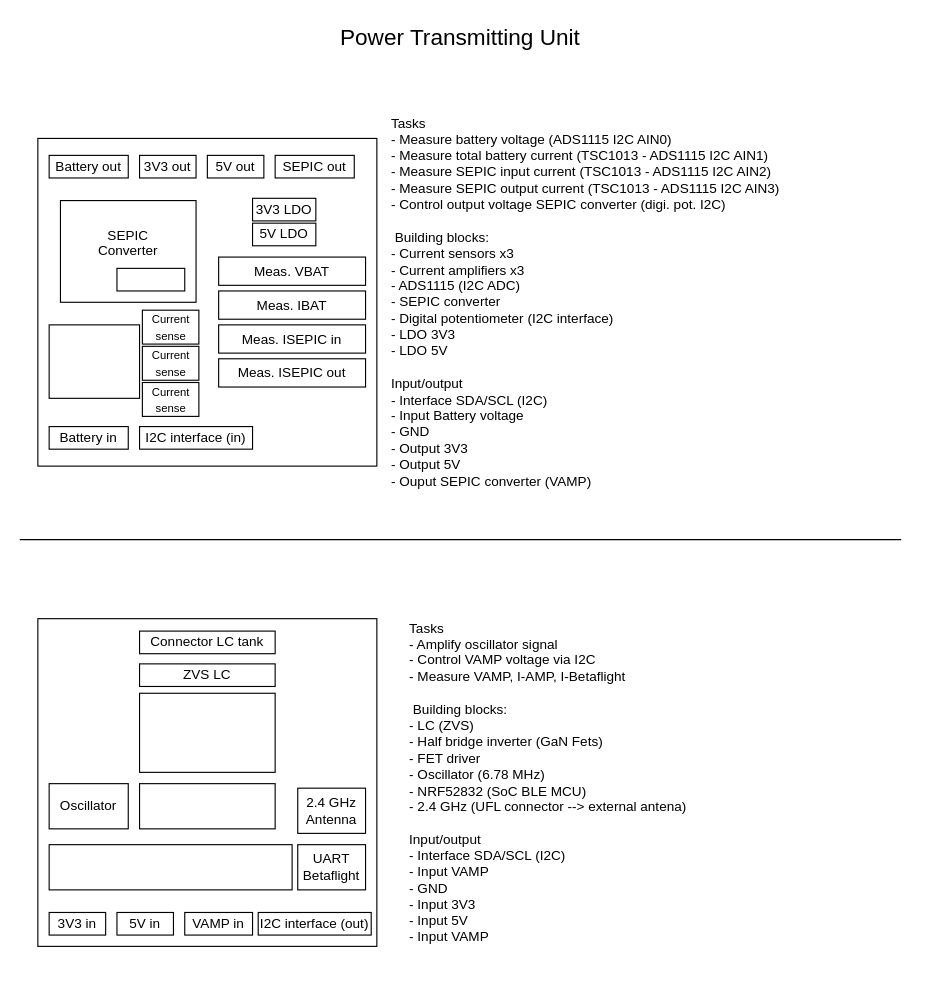
The diagram is 947 pixels wide and 993 high, and some of its shapes have lost their labels. Here are the shapes that lost their labels. From the top down, the box of each, then its label:
(116, 267, 185, 291): Digi. pot.
(48, 324, 140, 398): ADS1115 (I2C 4CH ADC)
(138, 692, 275, 772): GaN Halve Bridge Inverter
(138, 783, 275, 829): GaN FET driver
(48, 844, 292, 890): NRF52832 BLE SoC
